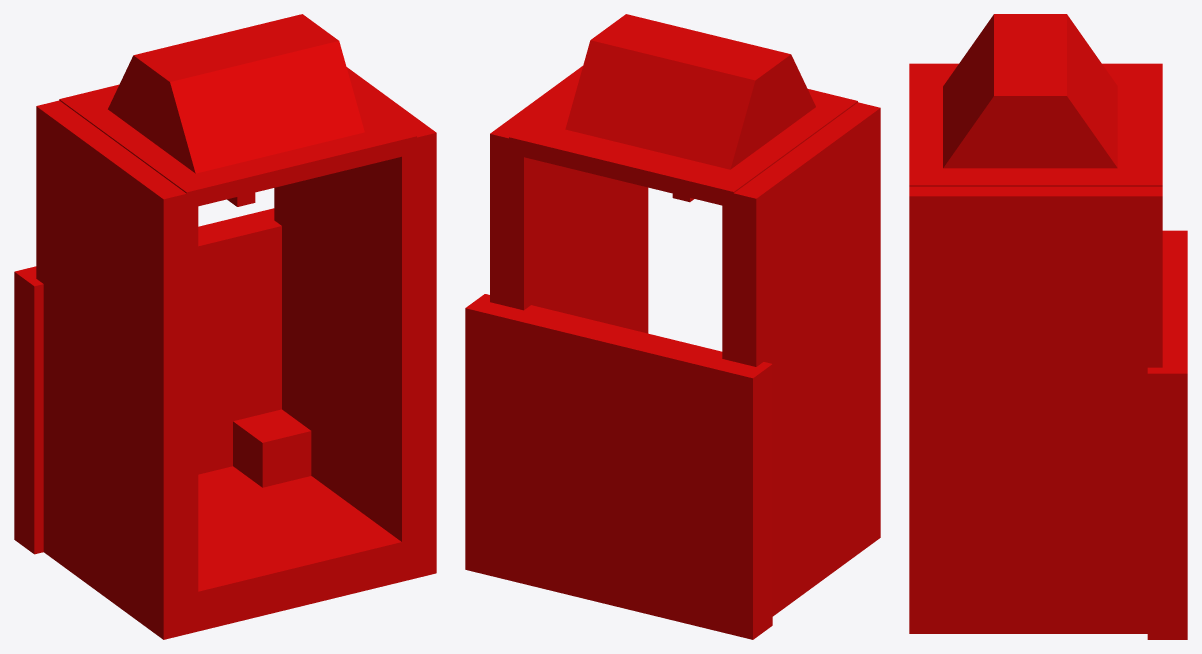
The model's file is SM_Prop_Shower_Junk_01_Collision.fbx.
3 renders of one model, left to right at view 1: azimuth 30°, elevation 25°; view 2: azimuth 150°, elevation 25°; view 3: azimuth 270°, elevation 25°, orthographic. The views are drawn at different scales.
Parts seen in each view (by area): view 1: SM_Prop_Shower_Junk_01_Collision; view 2: SM_Prop_Shower_Junk_01_Collision; view 3: SM_Prop_Shower_Junk_01_Collision.
Boxes of the visible parts, x1,y1,x2,y2 form: SM_Prop_Shower_Junk_01_Collision: (14,14,436,639); SM_Prop_Shower_Junk_01_Collision: (465,14,880,639); SM_Prop_Shower_Junk_01_Collision: (909,14,1187,639).
Bounding box in the file's own units: 186 × 311 × 153.
